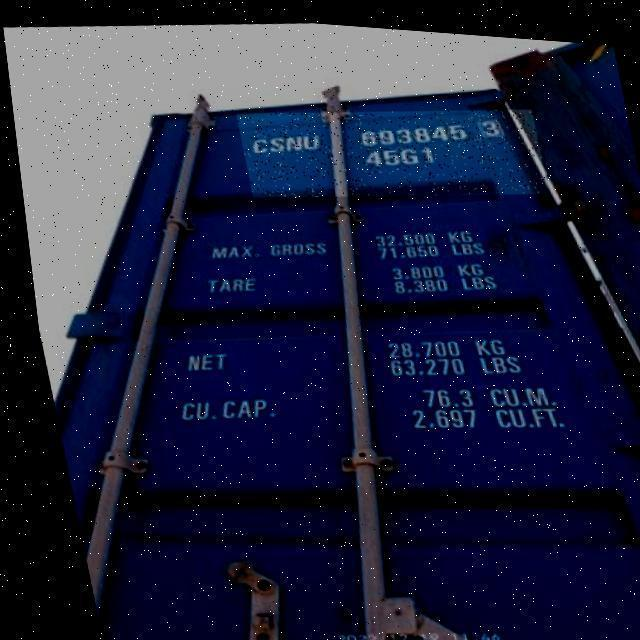container_number_h: (231, 84, 547, 211)
